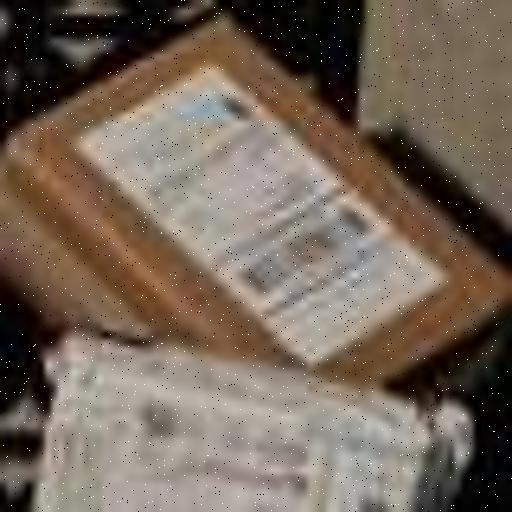Other: (12, 27, 512, 381), (44, 342, 458, 512)
